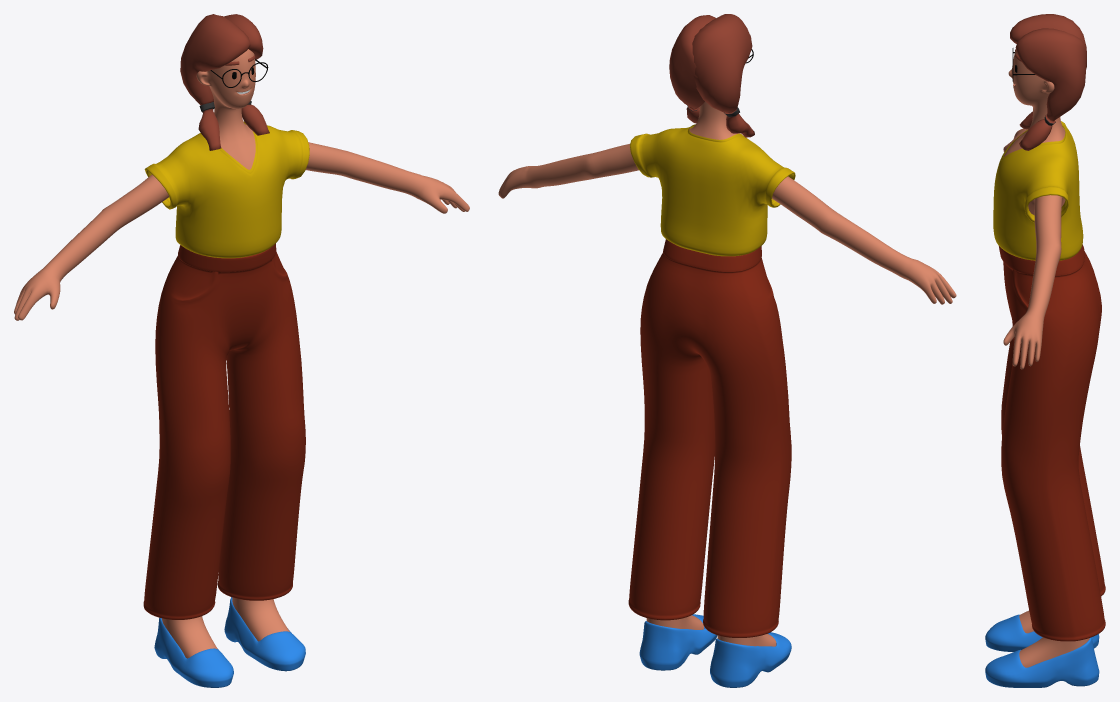
The model's file is girl.glb.
3 views of the same model, side by side, from view 1: azimuth 30°, elevation 25°; view 2: azimuth 150°, elevation 25°; view 3: azimuth 270°, elevation 25° (orthographic).
Parts seen in each view (by area): view 1: BADAN.005, BADAN, BADAN.003, Cube.002, shoesh.001; view 2: BADAN.005, BADAN.003, BADAN, Cube.002, shoesh.001; view 3: BADAN.005, BADAN, BADAN.003, Cube.002, shoesh.001.
Part boxes in pixels (left/top/right/bottom): BADAN.005: left=143, top=243, right=305, bottom=619; BADAN: left=14, top=49, right=469, bottom=658; BADAN.003: left=144, top=121, right=309, bottom=258; Cube.002: left=180, top=14, right=269, bottom=150; shoesh.001: left=154, top=597, right=305, bottom=687; BADAN.005: left=628, top=239, right=791, bottom=637; BADAN.003: left=630, top=124, right=795, bottom=256; BADAN: left=498, top=101, right=956, bottom=646; Cube.002: left=669, top=14, right=754, bottom=137; shoesh.001: left=639, top=614, right=791, bottom=687; BADAN.005: left=999, top=245, right=1105, bottom=641; BADAN: left=1003, top=49, right=1089, bottom=667; BADAN.003: left=993, top=121, right=1083, bottom=260; Cube.002: left=1010, top=14, right=1086, bottom=150; shoesh.001: left=985, top=614, right=1099, bottom=687.
Bounding box in the file's own units: 1.16 × 1.56 × 0.2667.
